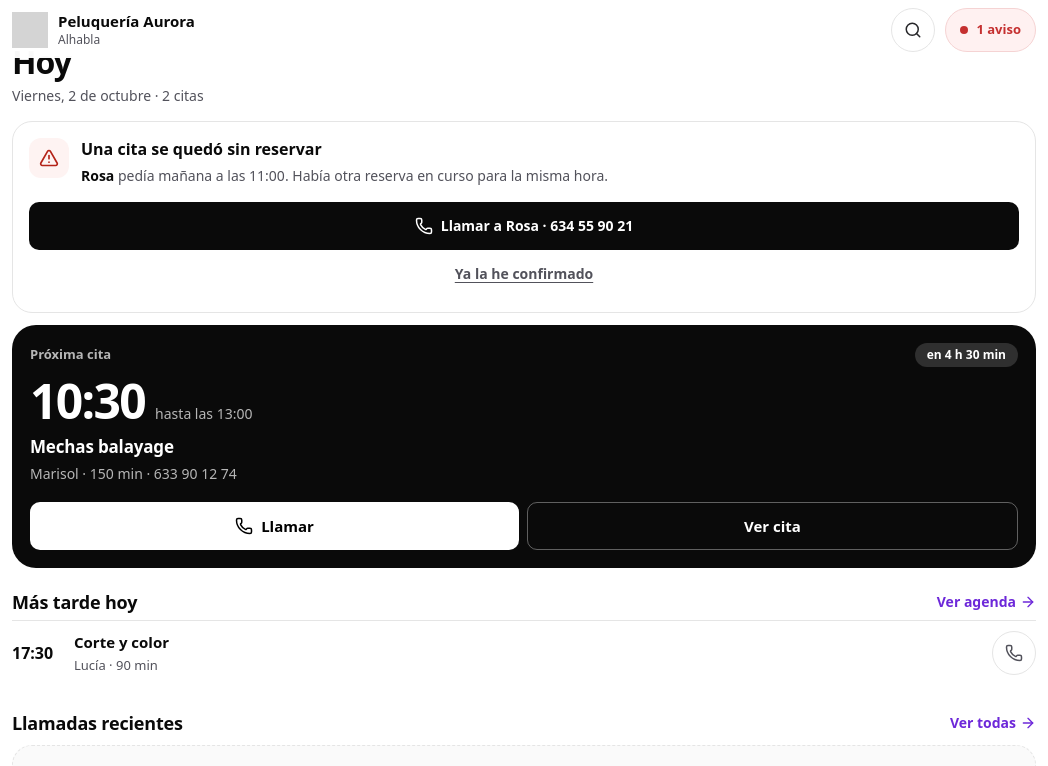
Test case: InicioMovil › «Ya la he confirmado» cierra la cita pendiente
The width and height of the screenshot is (1048, 766).
What coordinates should you click on to do the following:
click the button "Ya la he confirmado"
I would click on:
 (524, 274)
Its box is [29,252,1019,296].
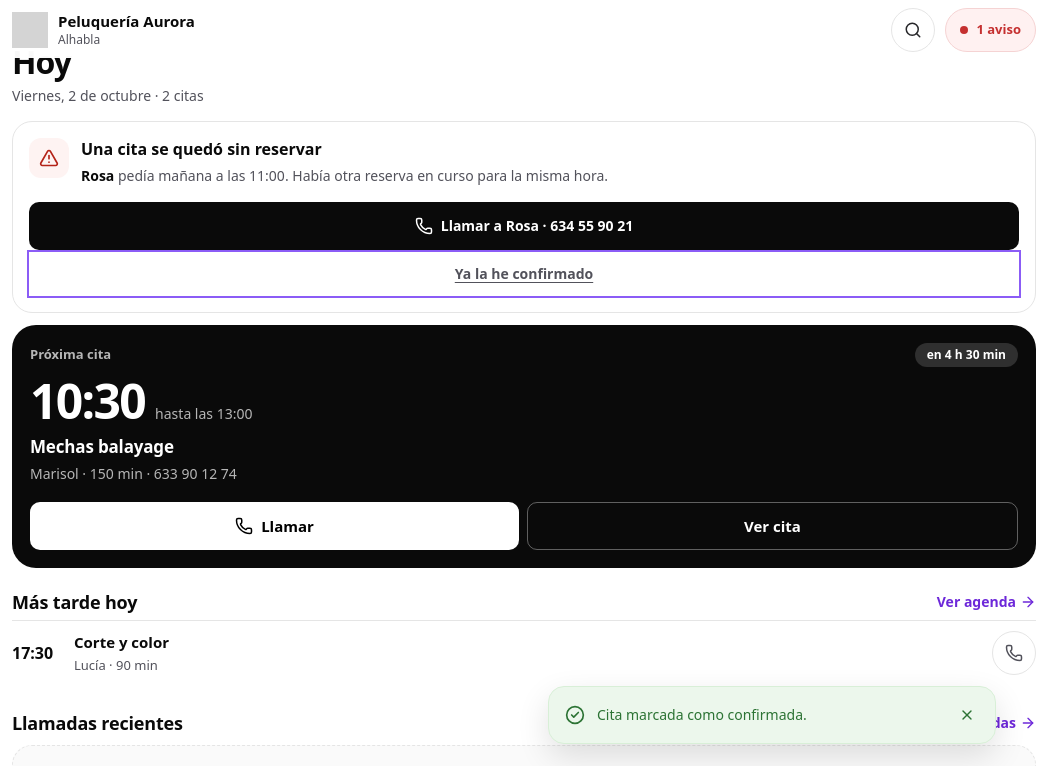
Expected: the text "Cita marcada como confirmada." is shown, [597,705,807,724]
